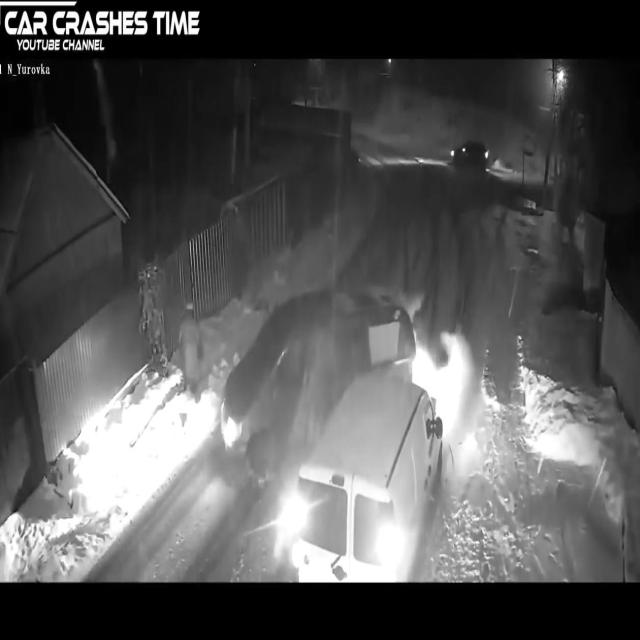accident: (214, 267, 451, 583)
